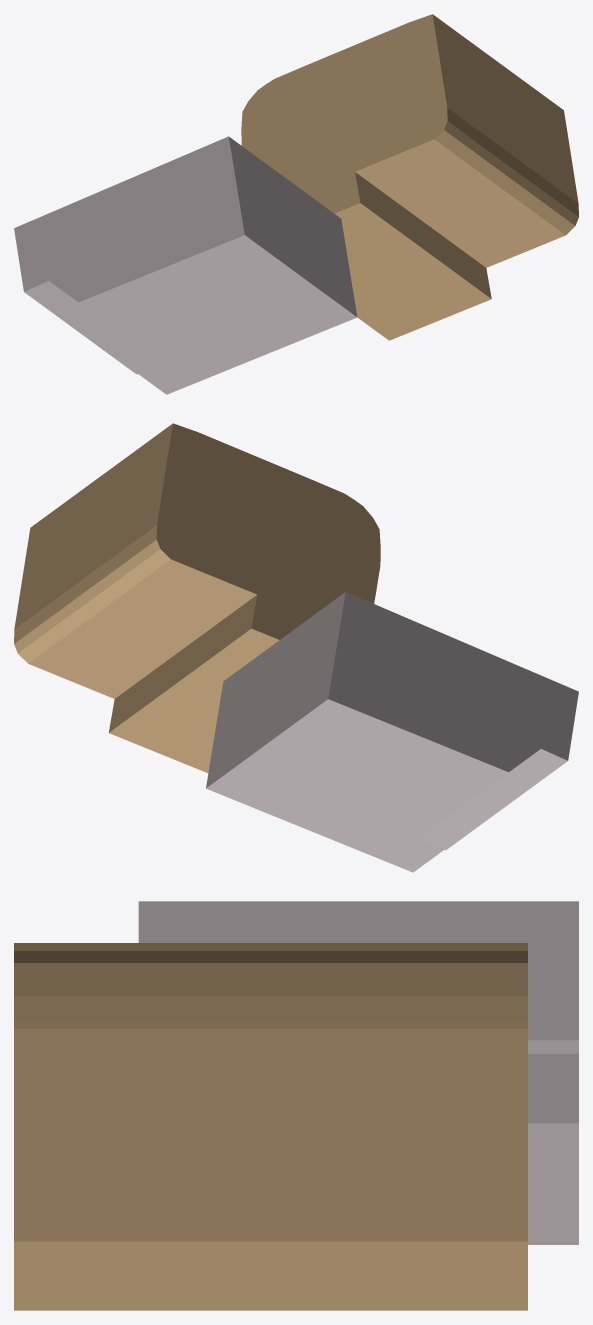
3 renders of one model, top to bottom at view 1: azimuth 30°, elevation 25°; view 2: azimuth 150°, elevation 25°; view 3: azimuth 270°, elevation 25°, orthographic. The views are drawn at different scales.
Parts seen in each view (by area): view 1: 0_1_2_0_3_0_1_2_1; view 2: 0_1_2_0_3_0_1_2_1; view 3: 0_1_2_0_3_0_1_2_1.
Boxes of the visible parts, x1,y1,x2,y2 form: 0_1_2_0_3_0_1_2_1: (14,14,578,394); 0_1_2_0_3_0_1_2_1: (14,423,578,872); 0_1_2_0_3_0_1_2_1: (14,901,578,1310).
Bounding box in the file's own units: 38.81 × 19.29 × 23.09.
